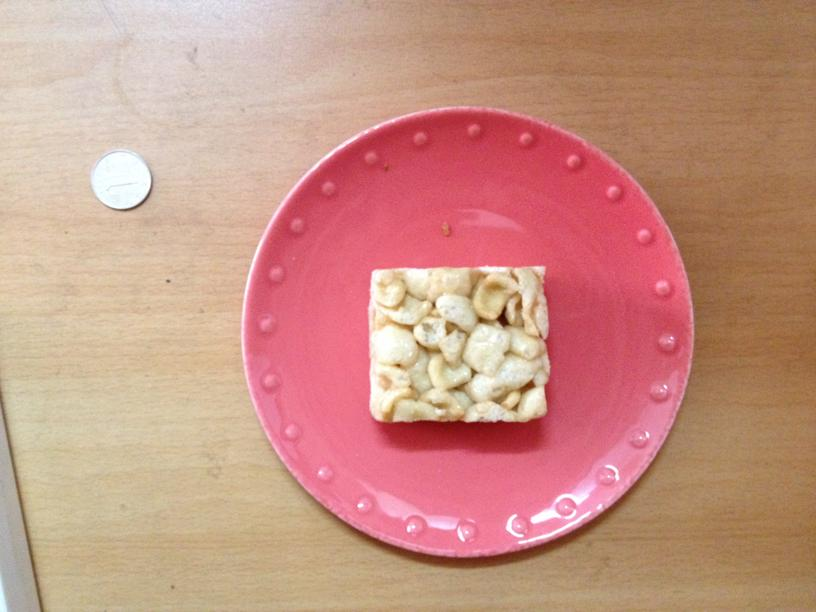coin: (90, 148, 151, 208)
sachima: (362, 262, 550, 426)
